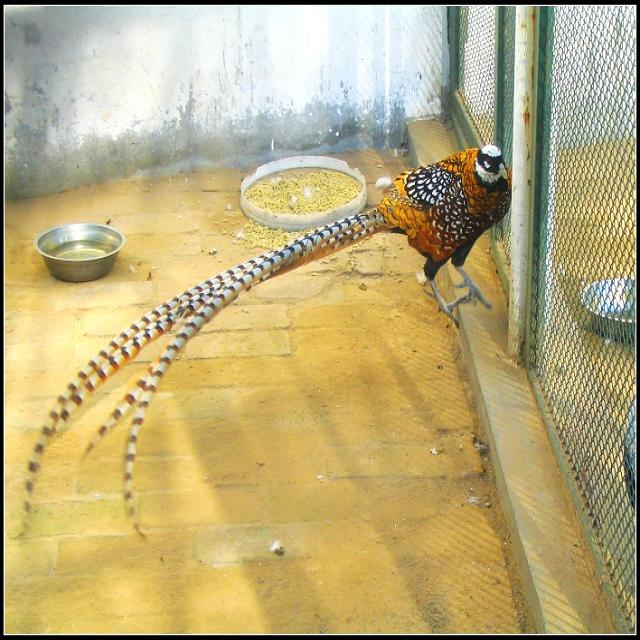Reeves-s Pheasant: (7, 207, 395, 542)
